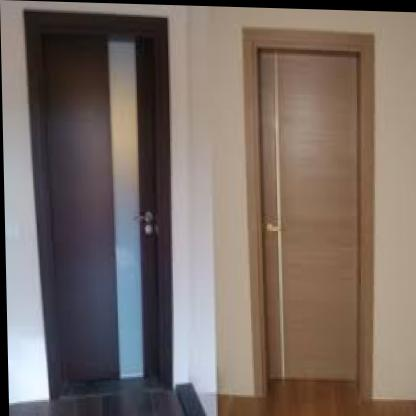door: (26, 11, 166, 379), (249, 31, 367, 388)
